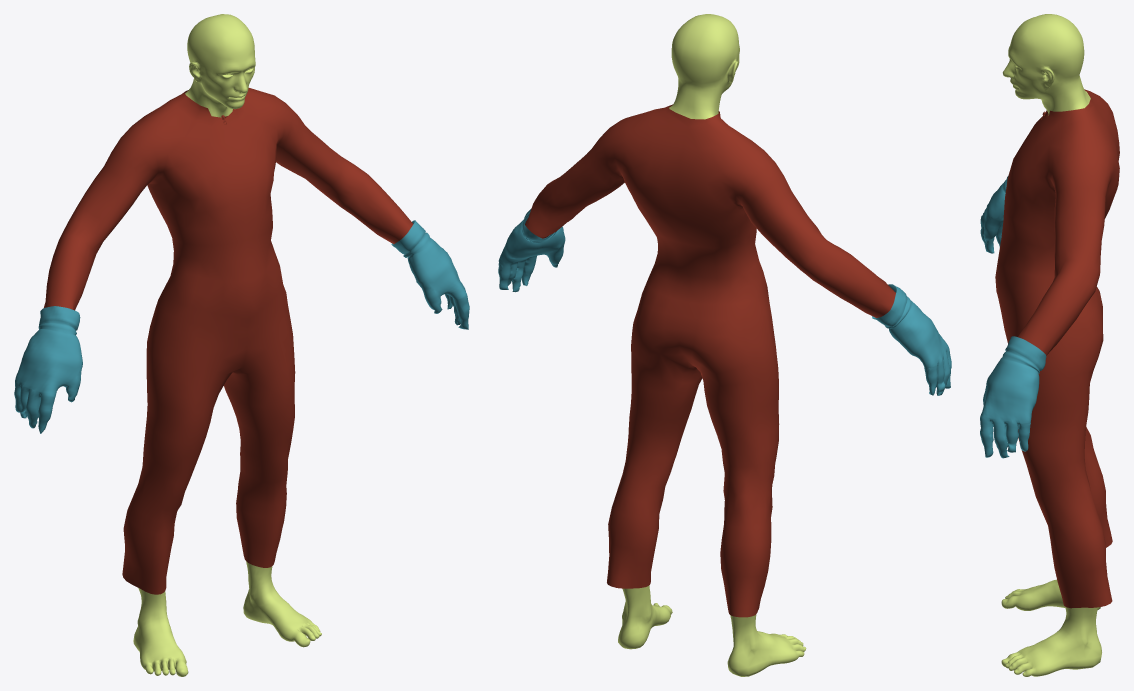
The model's file is moter.fbx.
The picture shows the model from 3 angles, left to right: view 1: azimuth 30°, elevation 25°; view 2: azimuth 150°, elevation 25°; view 3: azimuth 270°, elevation 25°; orthographic projection.
Visible parts, largest first — view 1: clothglow, maleuv001, gloss003, gloss005; view 2: clothglow, maleuv001, gloss003, gloss005; view 3: clothglow, maleuv001, gloss005, gloss003.
Boxes of the visible parts, <box> form: clothglow: <box>44,88,413,594</box>; maleuv001: <box>133,14,321,676</box>; gloss003: <box>14,306,82,433</box>; gloss005: <box>391,220,469,329</box>; clothglow: <box>525,104,895,617</box>; maleuv001: <box>618,14,806,676</box>; gloss003: <box>872,284,951,395</box>; gloss005: <box>498,208,565,292</box>; clothglow: <box>995,89,1119,608</box>; maleuv001: <box>1001,14,1101,676</box>; gloss005: <box>980,336,1046,458</box>; gloss003: <box>980,176,1008,253</box>.
Size of the model in its own units: 123 by 167 by 34.17.
